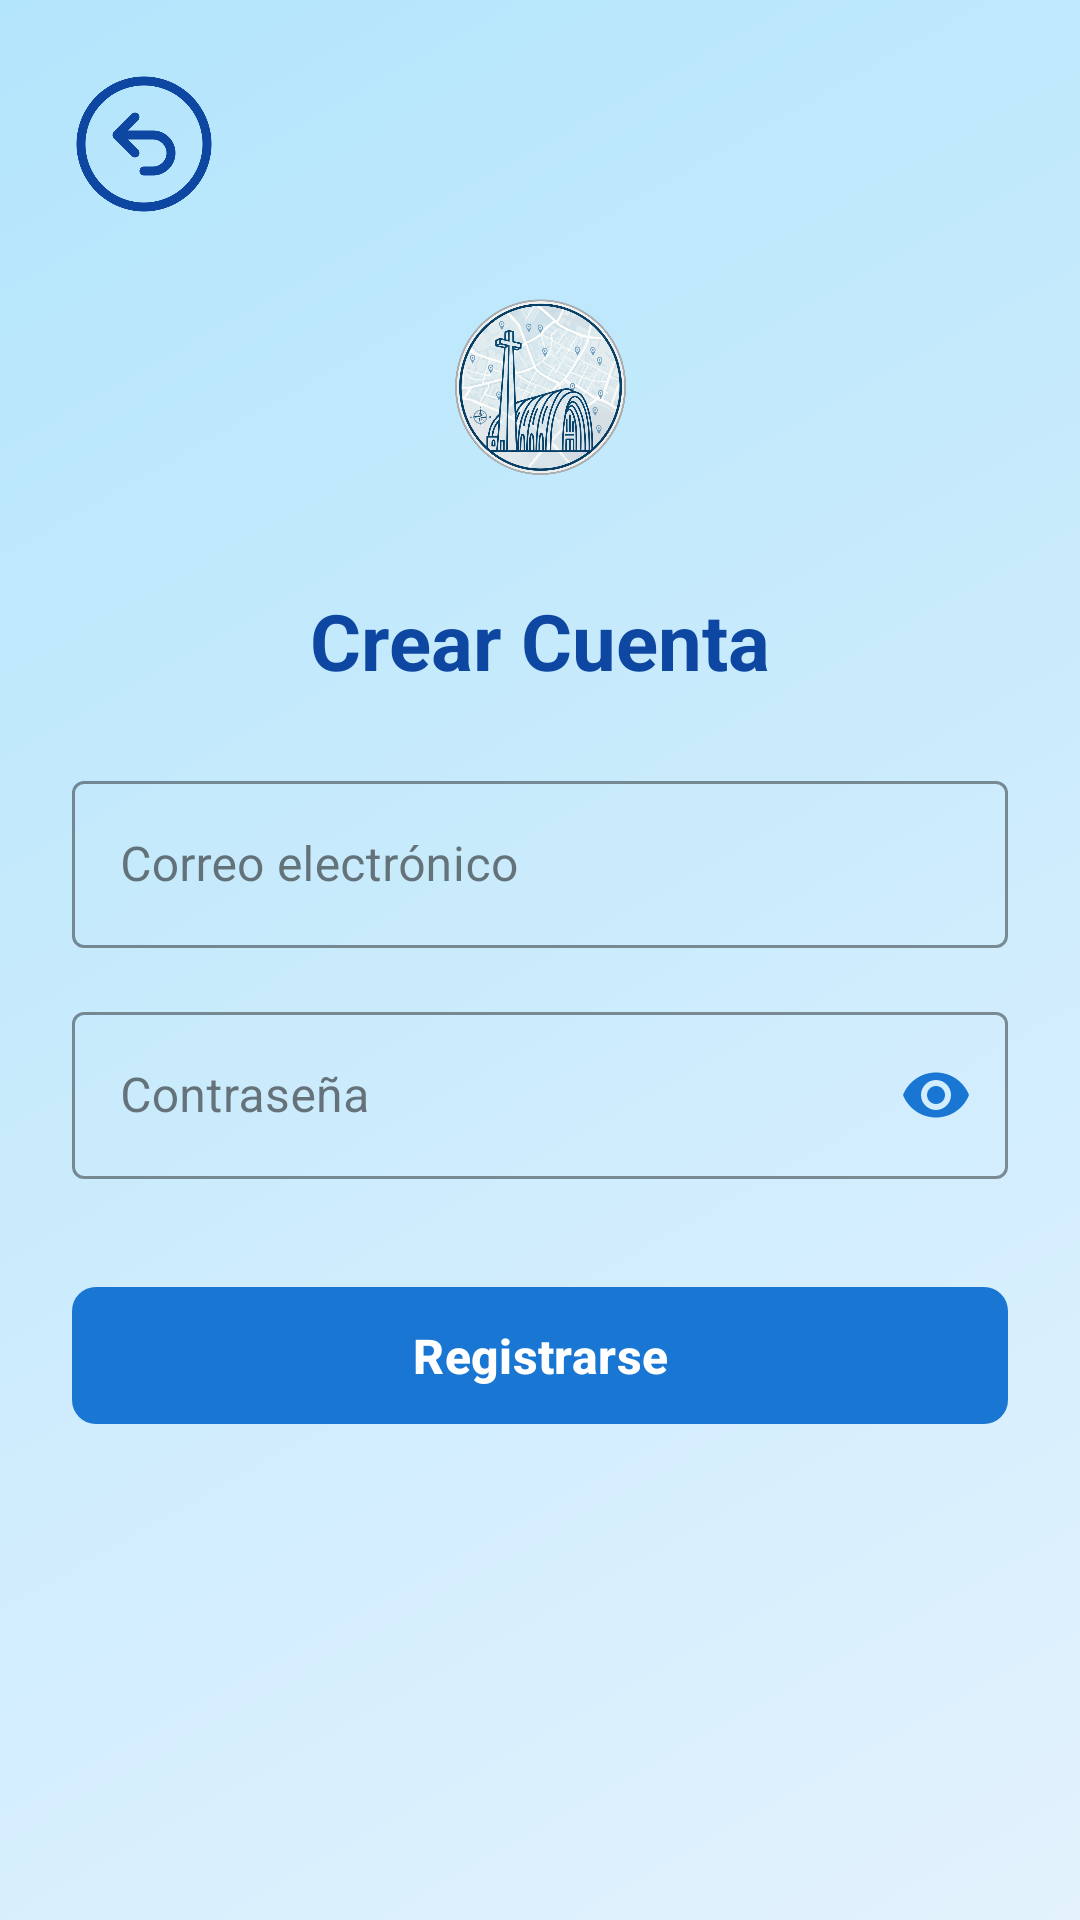

Icon bounding boxes for this 1080*1920 phone screenshot, format (x1, y1, x2, y2):
Volver: (76, 76, 212, 212)
